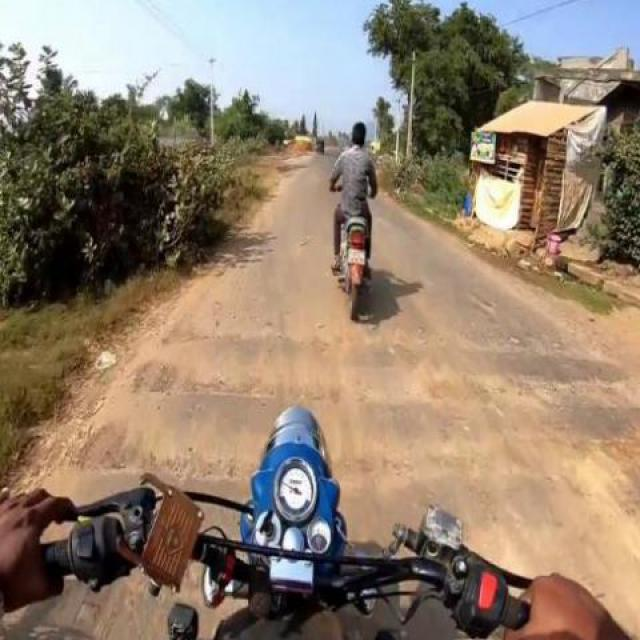Unmarked Bump: (139, 333, 626, 388), (342, 461, 640, 524), (326, 392, 638, 452), (94, 384, 270, 434), (41, 463, 252, 496)
